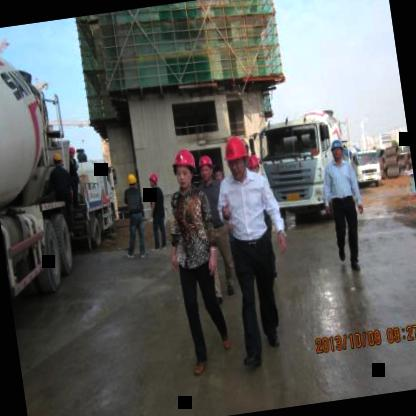helmet: (218, 131, 251, 180), (168, 146, 198, 190), (193, 148, 214, 184), (329, 135, 346, 161), (144, 168, 162, 191), (50, 147, 63, 170), (126, 169, 138, 190)
